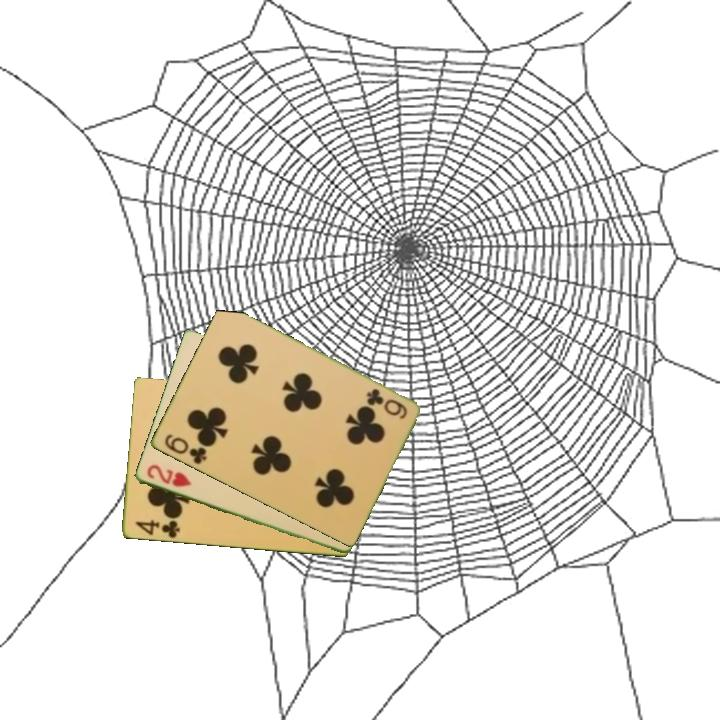2h: (143, 461, 194, 490)
4c: (132, 516, 182, 541)
6c: (160, 430, 209, 467), (362, 385, 410, 422)
